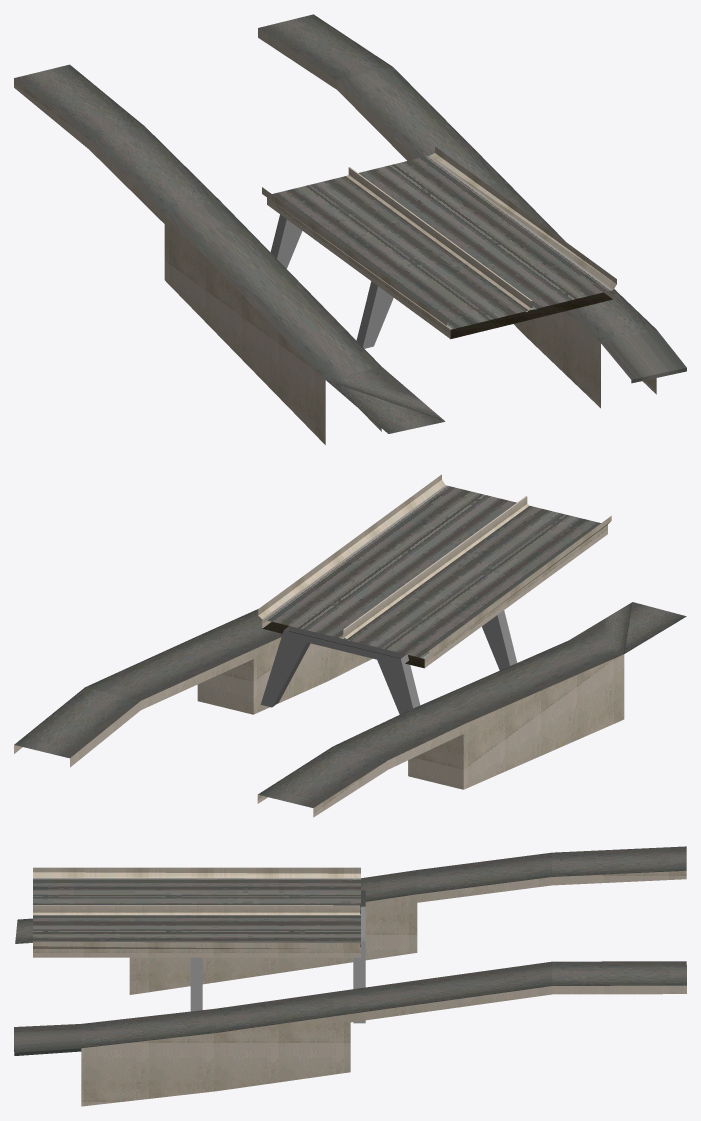
Rendered from lodroadssfse80.obj.
The picture shows the model from 3 angles, top to bottom: view 1: azimuth 30°, elevation 25°; view 2: azimuth 150°, elevation 25°; view 3: azimuth 270°, elevation 25°; orthographic projection. The views are drawn at different scales.
Visible parts, largest first — view 1: LODroadsSFSE80; view 2: LODroadsSFSE80; view 3: LODroadsSFSE80.
Part boxes in pixels (left/top/right/bottom): LODroadsSFSE80: left=14, top=14, right=686, bottom=444; LODroadsSFSE80: left=14, top=474, right=686, bottom=817; LODroadsSFSE80: left=14, top=846, right=686, bottom=1106.
Bounding box in the file's own units: 48.18 × 23.02 × 103.
Materials: 6 (5 with a texture image).
